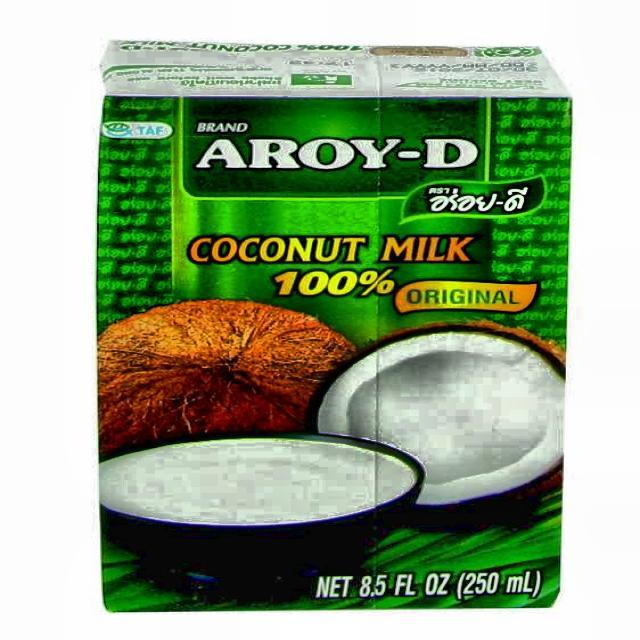cardboard: (94, 39, 570, 610)
